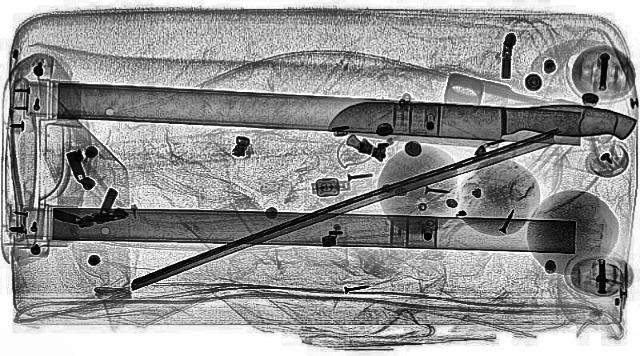Knife: (328, 95, 638, 145)
